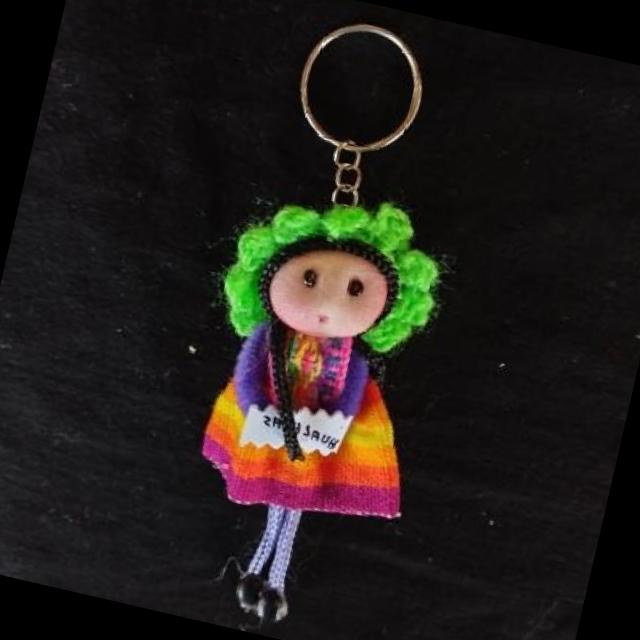Llavero: (147, 167, 469, 640)
